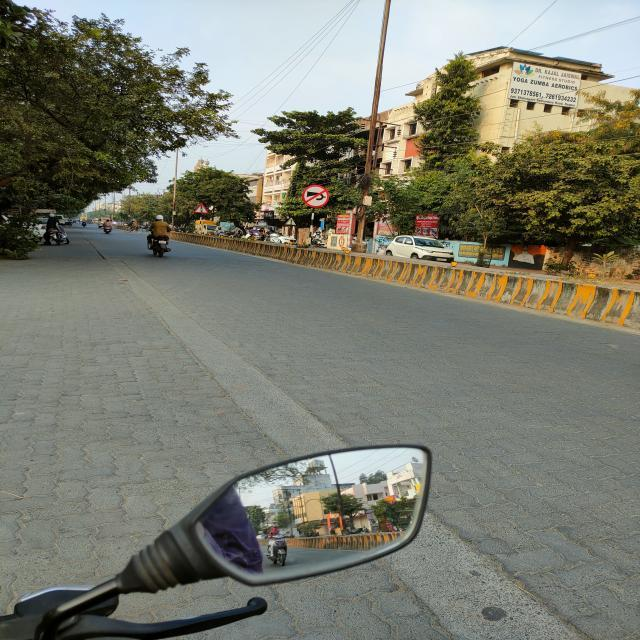horn prohibited: (302, 185, 330, 208)
